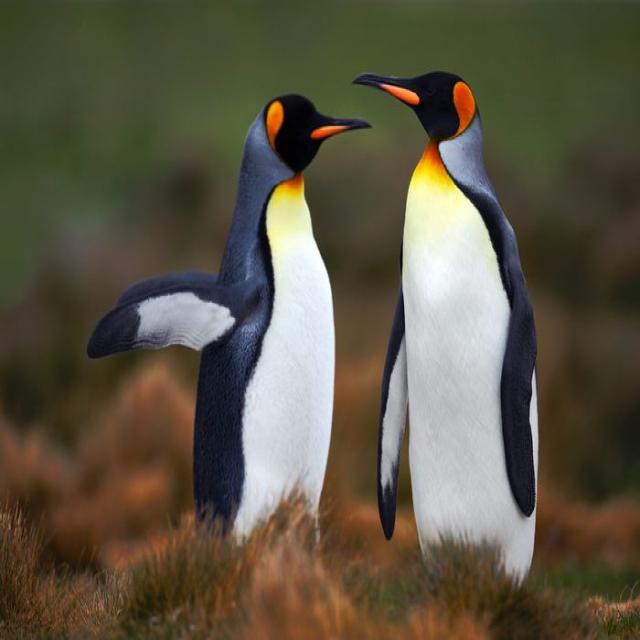Penguins: (178, 77, 373, 577), (370, 47, 542, 603)
